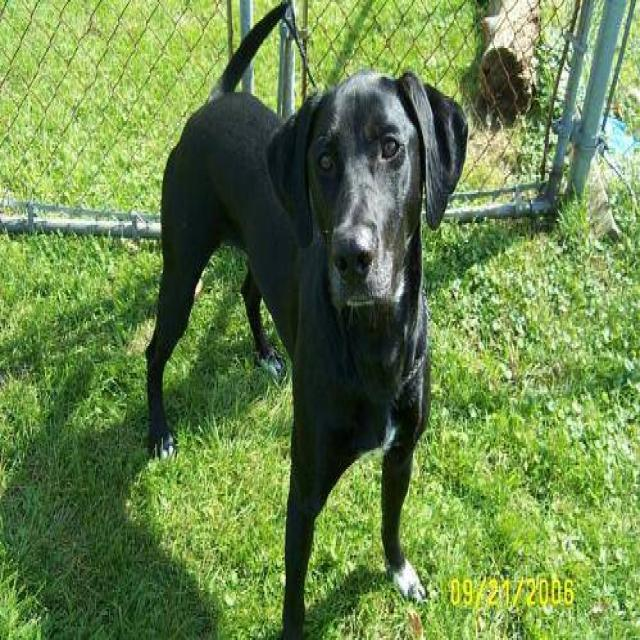dog: (144, 0, 468, 638)
